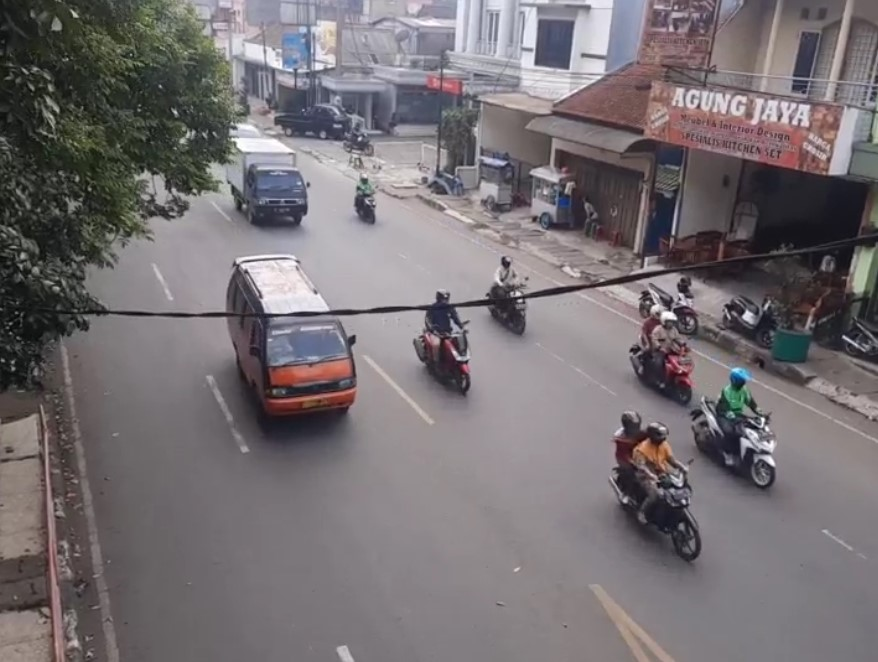mobil: (214, 253, 366, 439), (223, 134, 309, 226)
motor: (592, 409, 703, 570), (695, 372, 789, 486), (409, 285, 476, 391), (628, 296, 696, 400), (484, 255, 537, 334), (348, 173, 379, 225)
